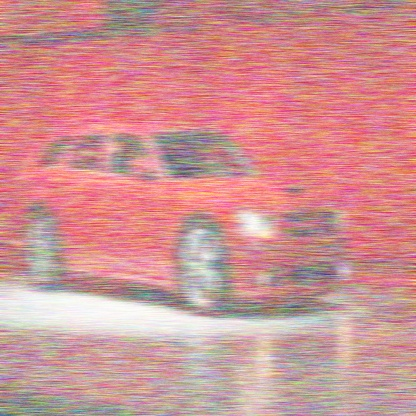Vehicle: (1, 112, 354, 320)
